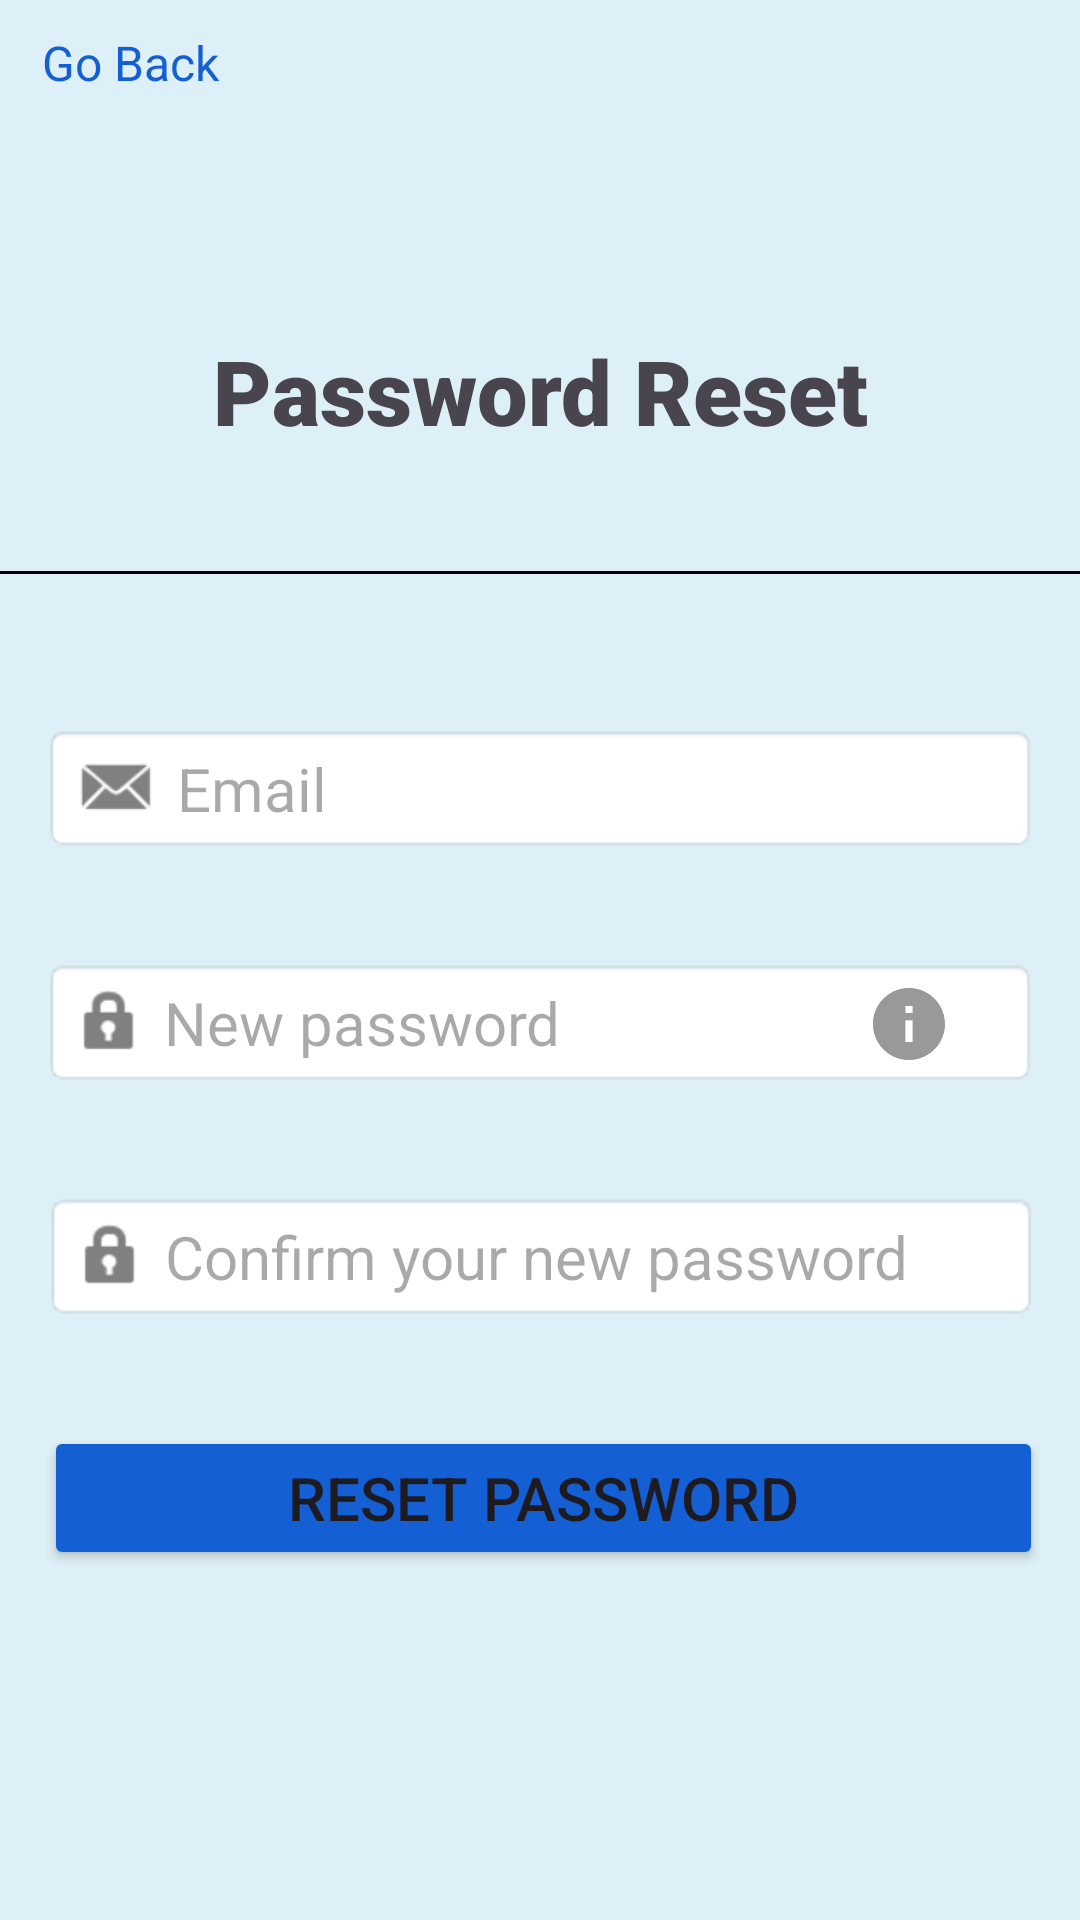

Icon click points for this 1080w x 1920h phone screenshot, format (x,y):
information: (909,1024)
